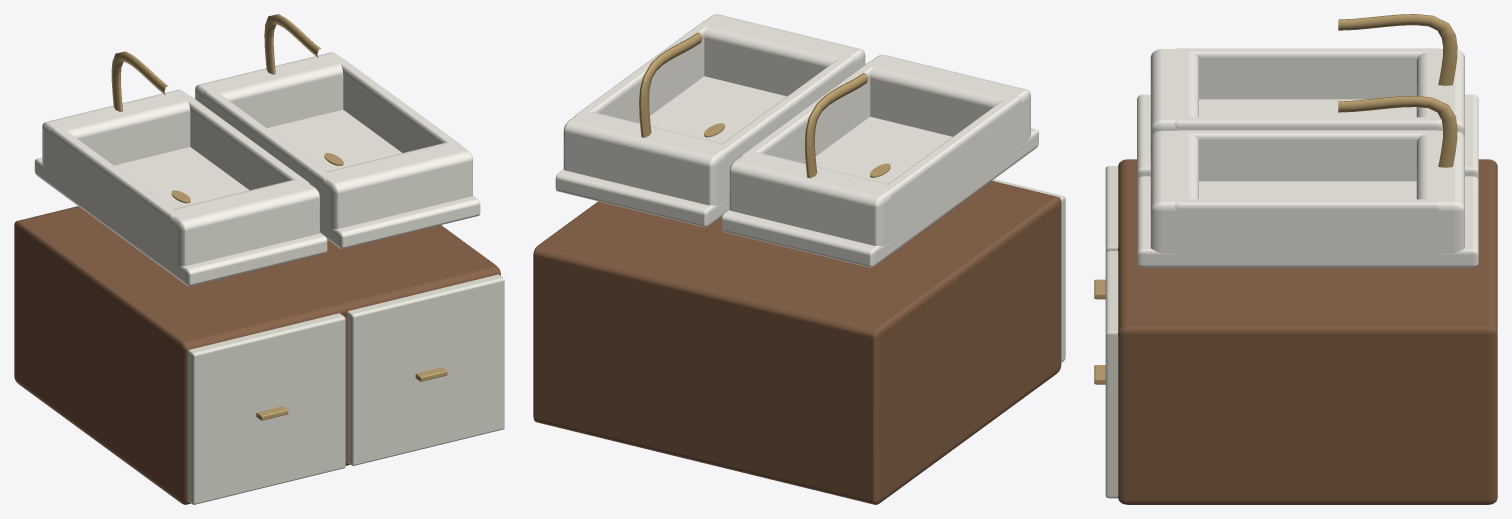
Rendered from sink-13-1.glb.
3 renders of one model, left to right at view 1: azimuth 30°, elevation 25°; view 2: azimuth 150°, elevation 25°; view 3: azimuth 270°, elevation 25°, orthographic. The views are drawn at different scales.
Visible parts, largest first — view 1: upholstery (×4); view 2: upholstery (×4); view 3: upholstery (×4).
Part boxes in pixels (x1,y1,x2,y2): upholstery (×4): (14,14,504,504); upholstery (×4): (533,14,1065,504); upholstery (×4): (1094,14,1497,504).
Size of the model in its own units: 1 by 1 by 1.
